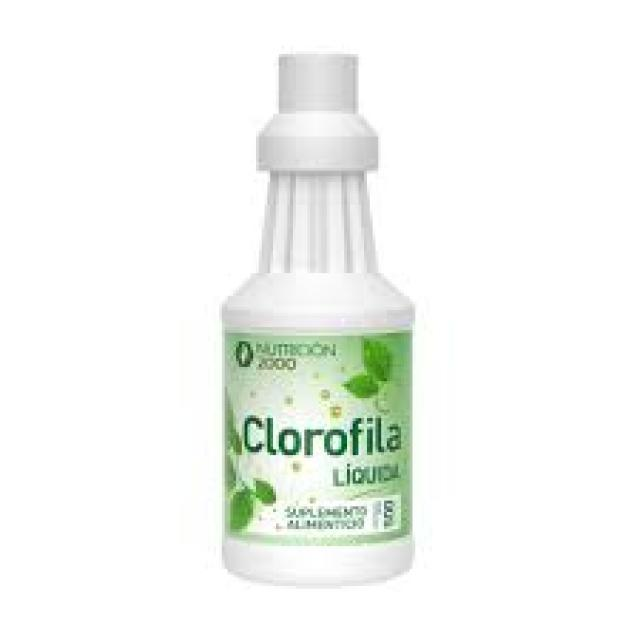Botella: (178, 28, 434, 598)
